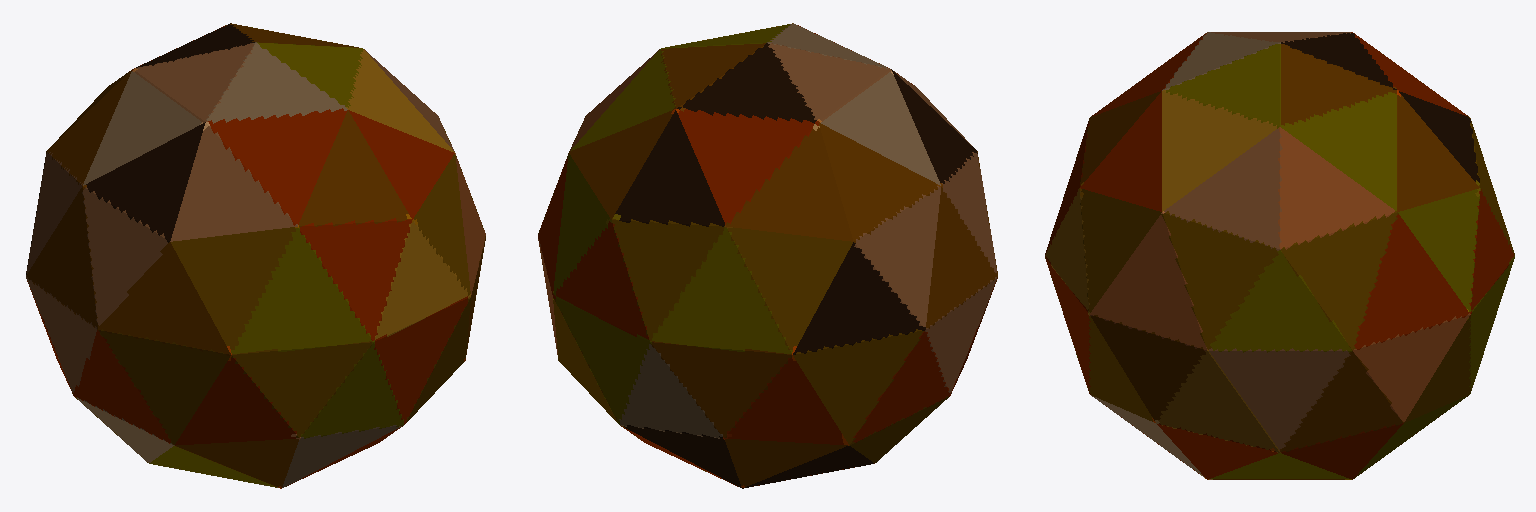
The picture shows the model from 3 angles: view 1: azimuth 30°, elevation 25°; view 2: azimuth 150°, elevation 25°; view 3: azimuth 270°, elevation 25°; orthographic projection.
Visible parts, largest first — view 1: Icosphere; view 2: Icosphere; view 3: Icosphere.
Boxes of the visible parts, <box> form: Icosphere: <box>26,23,485,488</box>; Icosphere: <box>538,23,997,488</box>; Icosphere: <box>1045,32,1514,479</box>.
Size of the model in its own units: 0.9511 by 1 by 1.
Materials: 1 (1 with a texture image).